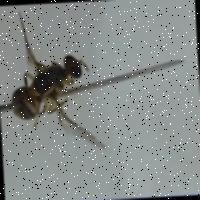Oriental-fruit-fly: (2, 9, 125, 159)
